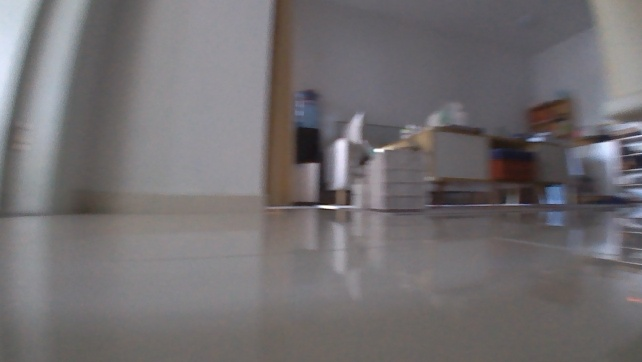tea_table: (381, 125, 570, 207)
